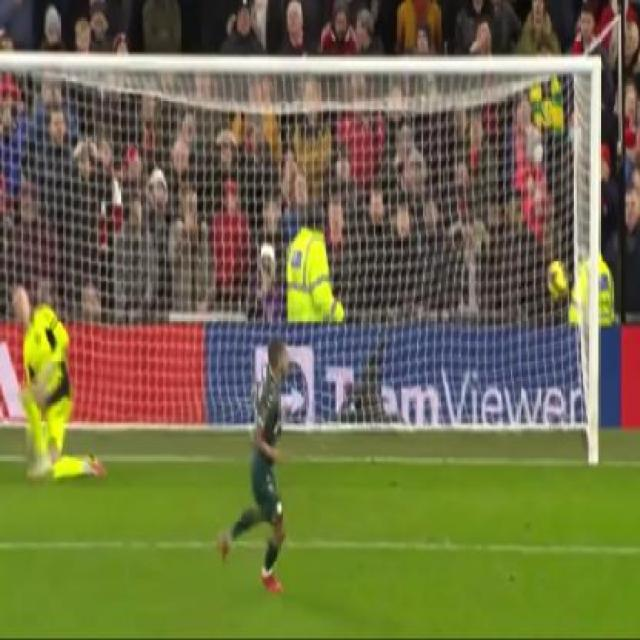ball: (544, 258, 575, 308)
cage: (0, 46, 608, 462)
gardien: (8, 282, 104, 483)
joueur: (215, 338, 292, 592)
